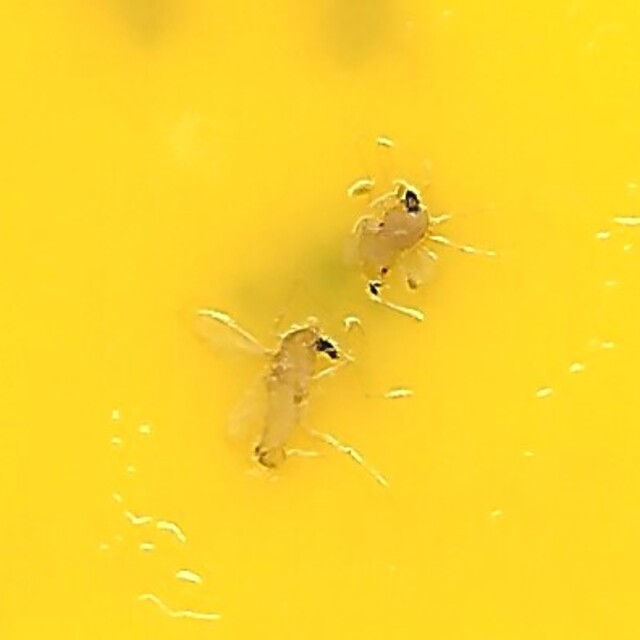Nematocera: (162, 296, 354, 471), (343, 169, 478, 307)
